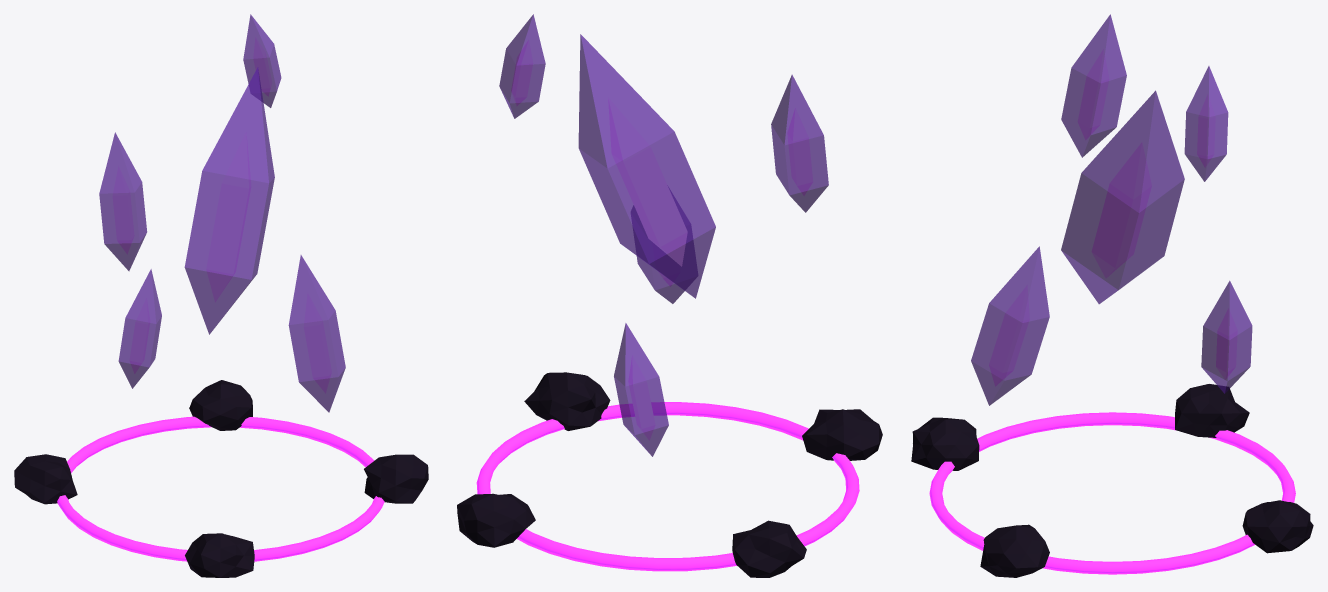
Rendered from Void_Shards.glb.
3 views of the same model, side by side, from view 1: azimuth 30°, elevation 25°; view 2: azimuth 150°, elevation 25°; view 3: azimuth 270°, elevation 25° (orthographic). The views are drawn at different scales.
Parts seen in each view (by area): view 1: Shards, Rubble, Cores, GlowRing; view 2: Shards, Rubble, Cores, GlowRing; view 3: Shards, Rubble, Cores, GlowRing.
Boxes of the visible parts, x1=… form: Shards: x1=99, y1=14, x2=345, y2=412; Rubble: x1=14, y1=380, x2=428, y2=577; Cores: x1=113, y1=38, x2=331, y2=392; GlowRing: x1=57, y1=416, x2=384, y2=561; Shards: x1=499, y1=14, x2=828, y2=456; Rubble: x1=457, y1=372, x2=882, y2=577; Cores: x1=511, y1=40, x2=812, y2=439; GlowRing: x1=476, y1=402, x2=859, y2=571; Shards: x1=971, y1=14, x2=1252, y2=405; Rubble: x1=911, y1=384, x2=1313, y2=577; Cores: x1=989, y1=49, x2=1237, y2=385; GlowRing: x1=929, y1=412, x2=1295, y2=574.
Size of the model in its own units: 5.1 by 6.52 by 5.01.
